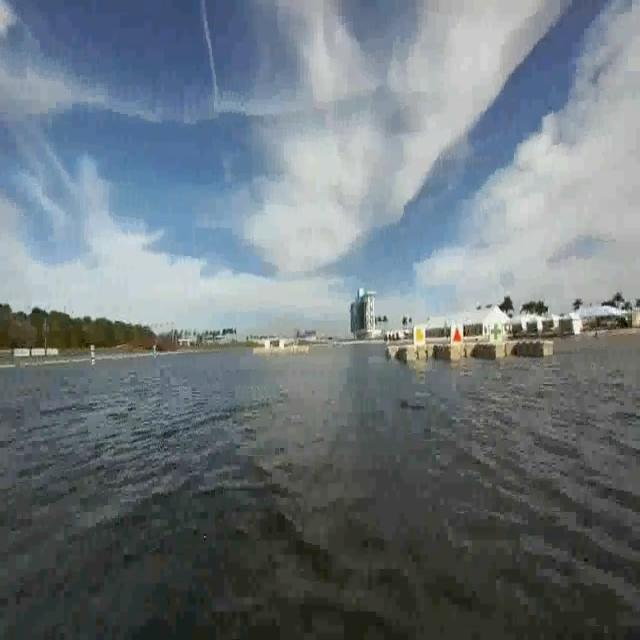blue-cross: (489, 317, 503, 345)
red-dot: (451, 321, 462, 345)
yellow-duck: (414, 320, 426, 351)
